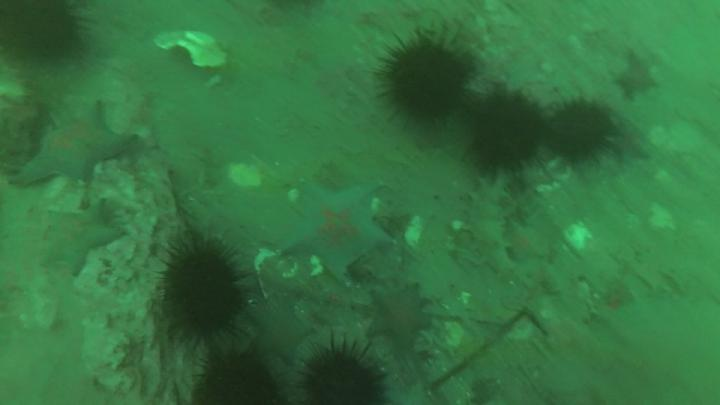echinus: (388, 39, 468, 121), (166, 248, 242, 330), (478, 90, 543, 167), (1, 1, 77, 55), (305, 352, 380, 405), (548, 99, 612, 160), (200, 355, 277, 405)
holothurian: (472, 170, 513, 272)
starfish: (282, 179, 391, 282), (11, 104, 136, 186), (38, 201, 126, 278), (370, 288, 430, 351), (617, 55, 660, 101), (616, 123, 652, 166), (504, 222, 544, 260)
